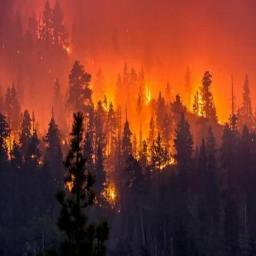Large fire: (0, 0, 255, 216)
